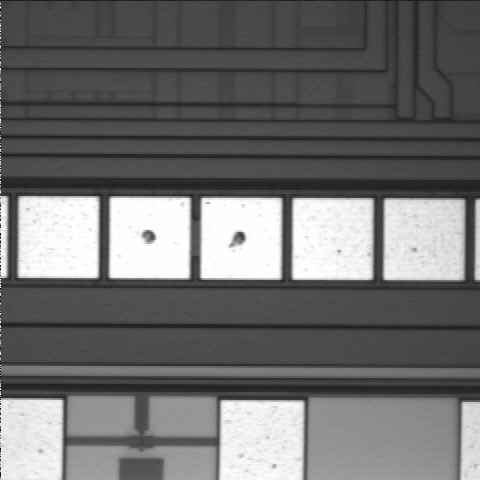pad: (109, 197, 191, 279), (18, 196, 99, 278), (201, 198, 282, 280), (292, 198, 373, 280), (384, 199, 464, 280)
